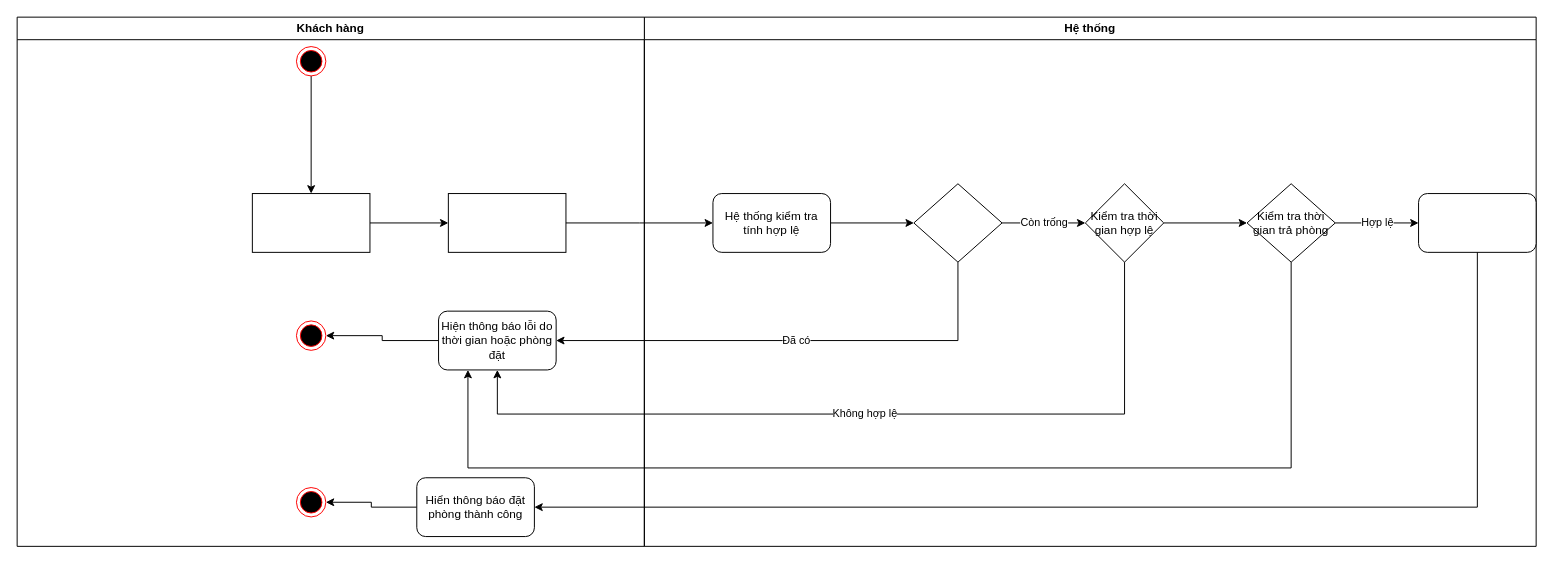
Some shapes in this 1553 by 564 pixel diagram are drawn without their labels. The centre of each missing label's shape, as x and y in pixels:
"Chọn khoảng thời gian đặt phòng" goes at (506,222).
"Kiểm tra phòng trong thời gian đó còn trống" goes at (957,222).
"Nhập số phòng" goes at (310,222).
